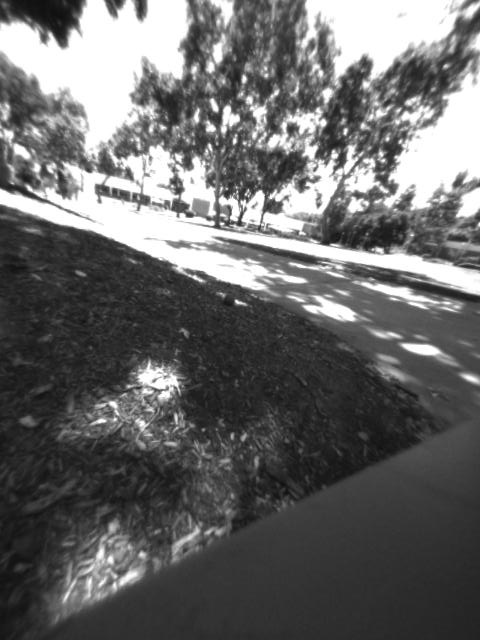dogtoy: (216, 288, 242, 309)
